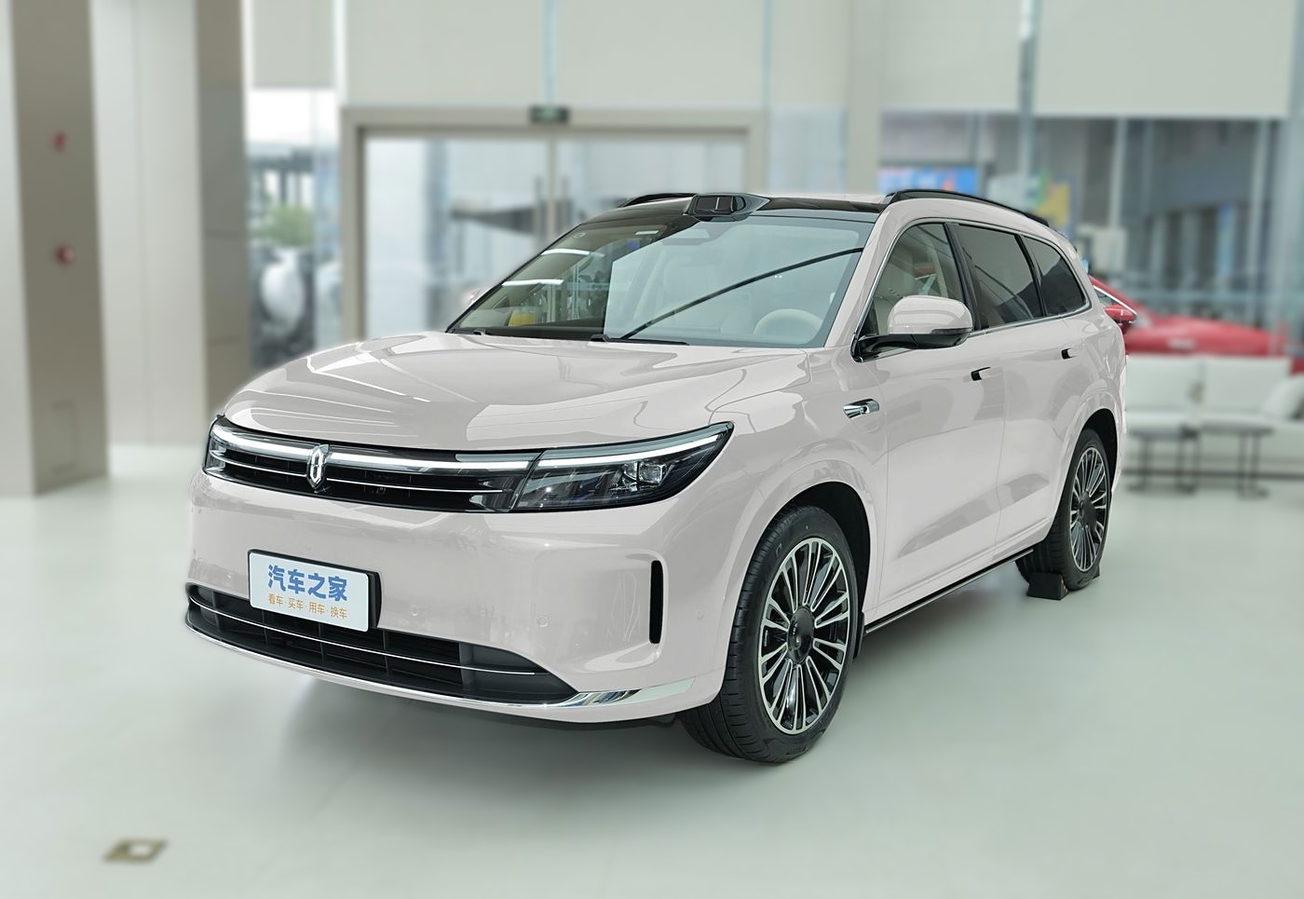AITO: (311, 449, 321, 483)
